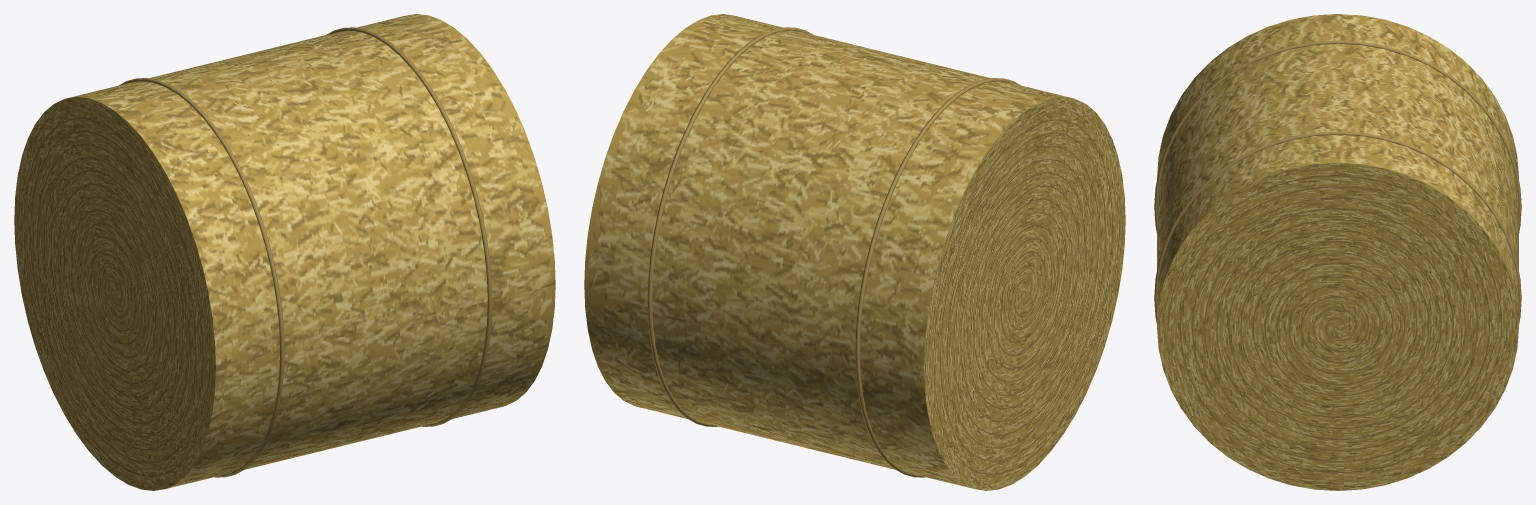
File: bale.glb
The picture shows the model from 3 angles, left to right: view 1: azimuth 30°, elevation 25°; view 2: azimuth 150°, elevation 25°; view 3: azimuth 270°, elevation 25°; orthographic projection. The views are drawn at different scales.
Visible parts, largest first — view 1: Bale; view 2: Bale; view 3: Bale.
Part boxes in pixels (x1,y1,x2,y2): Bale: [14, 14, 555, 490]; Bale: [584, 14, 1125, 490]; Bale: [1154, 14, 1521, 490].
Size of the model in its own units: 1.44 by 1.5 by 1.5.
Materials: 4 (2 with a texture image).
